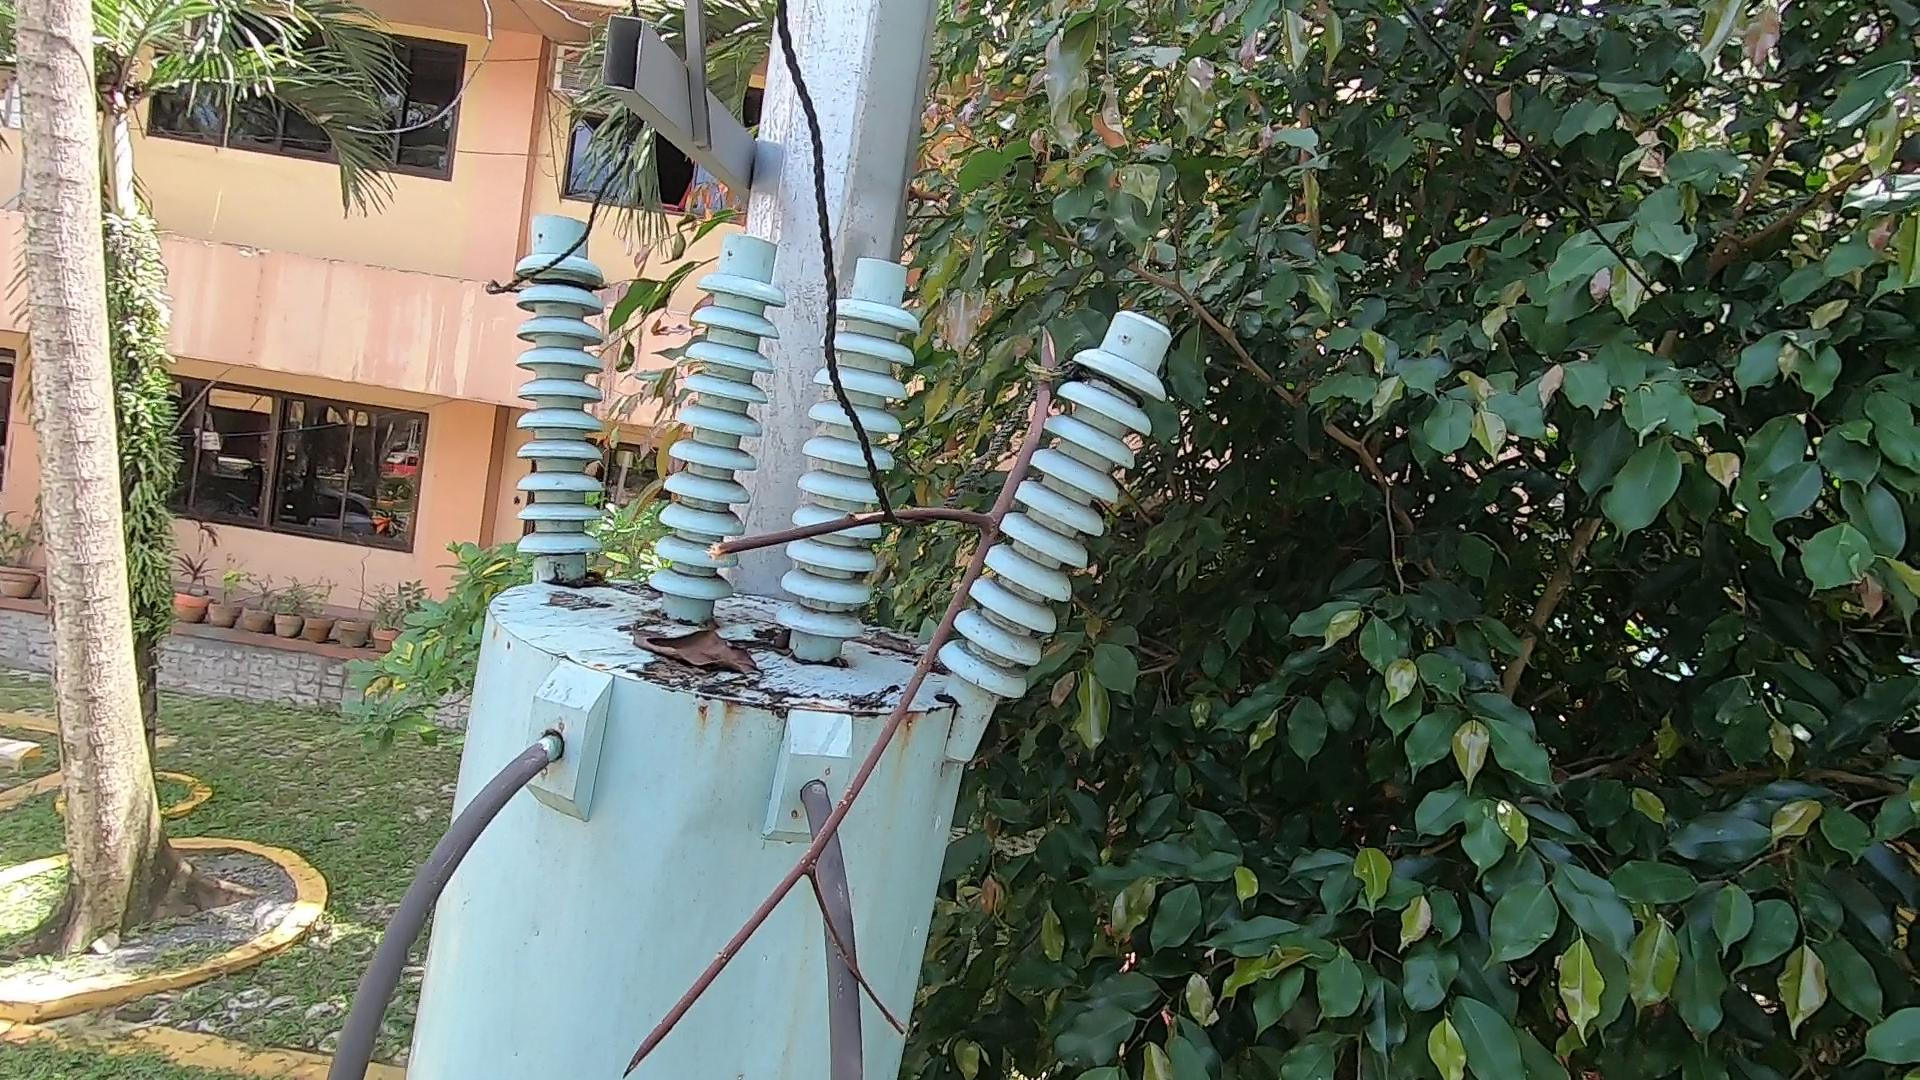leaf: (632, 612, 754, 691)
tree branch: (601, 324, 1151, 1077)
